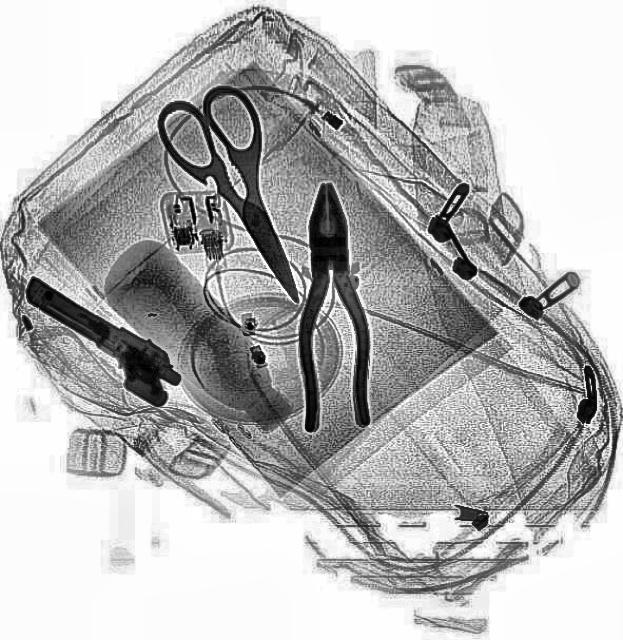Gun: (3, 272, 189, 410)
Pliers: (290, 181, 373, 433)
Scissors: (146, 71, 342, 321)
